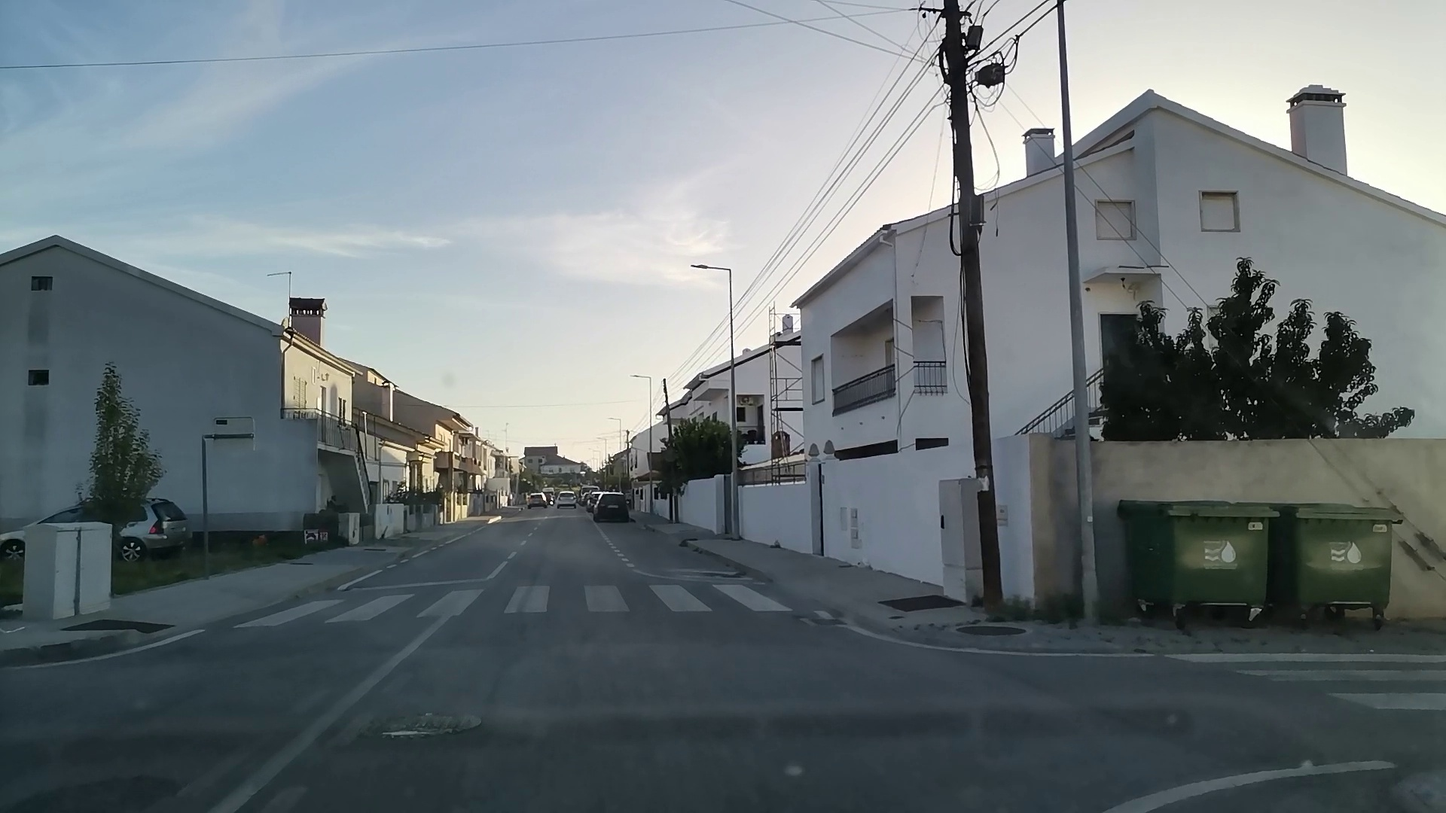Stairs: (235, 578, 795, 632)
